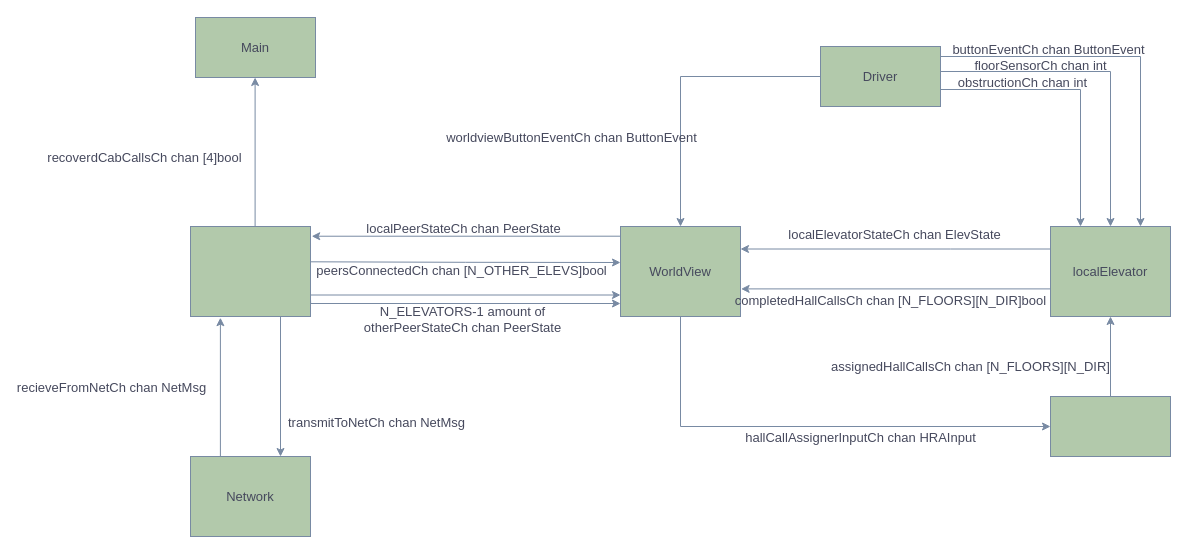
The diagram is 1188 pixels wide and 554 high, and some of its shapes have lost their labels. The box of each missing label's shape, as (x1, y1, x2, y2) in pixels:
Communication: (190, 226, 310, 316)
HallCallAssigner: (1050, 396, 1170, 456)
